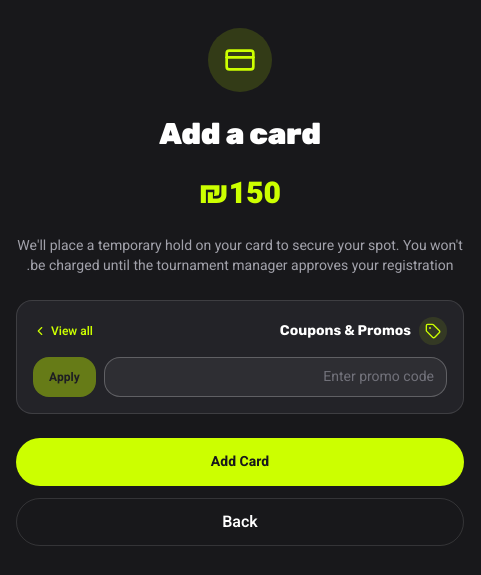
it: PaymentMethodPage › shows the backend error when the typed code is invalid
Type "EXPIRED" into the field with placeholder "Enter promo code". click: (275, 377)
box: [117,367,434,387]
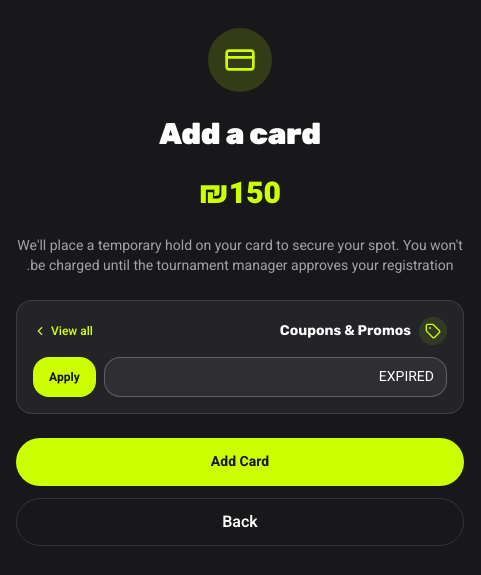
Click the button "Apply". click: (64, 377)
box: [33,357,96,397]
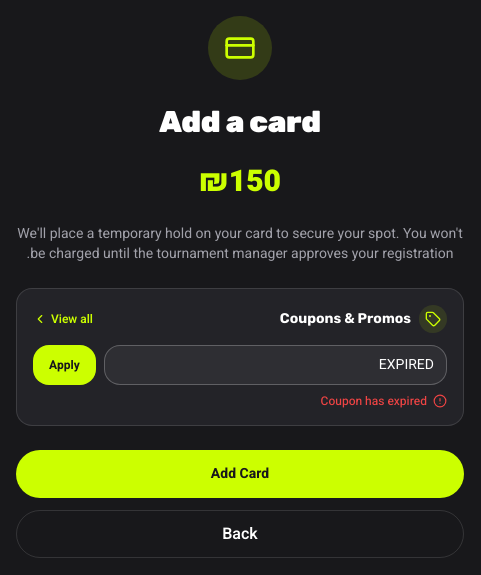
Now the text "Coupon has expired" is shown, box [321,392,447,410]
